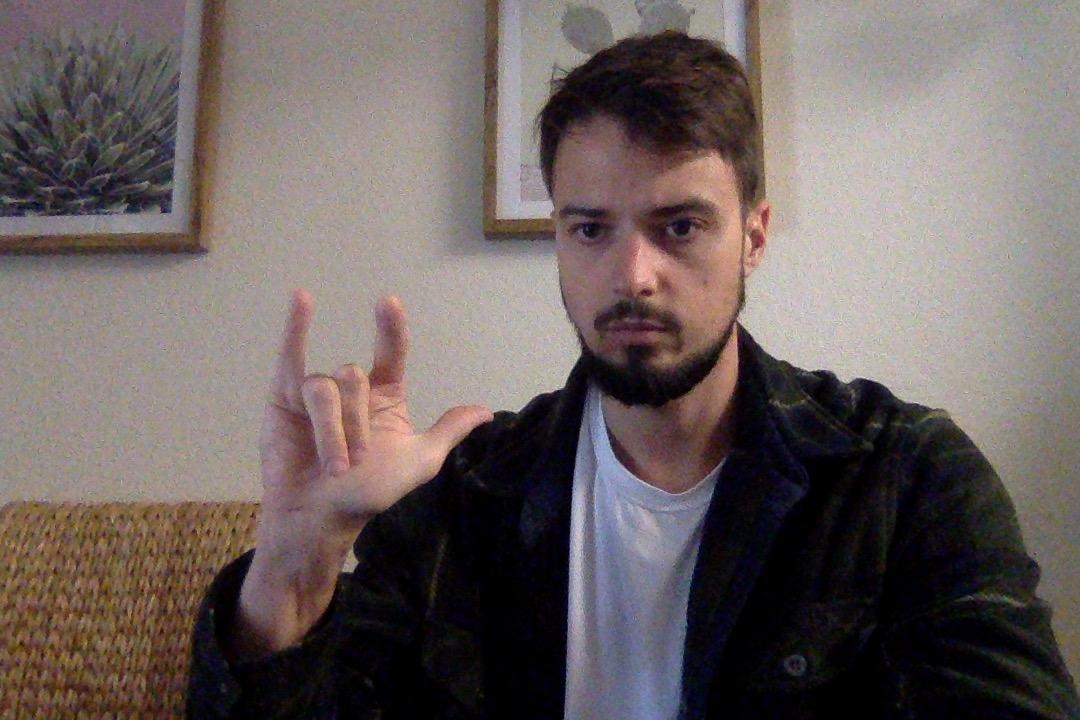Love-You: (264, 280, 497, 540)
